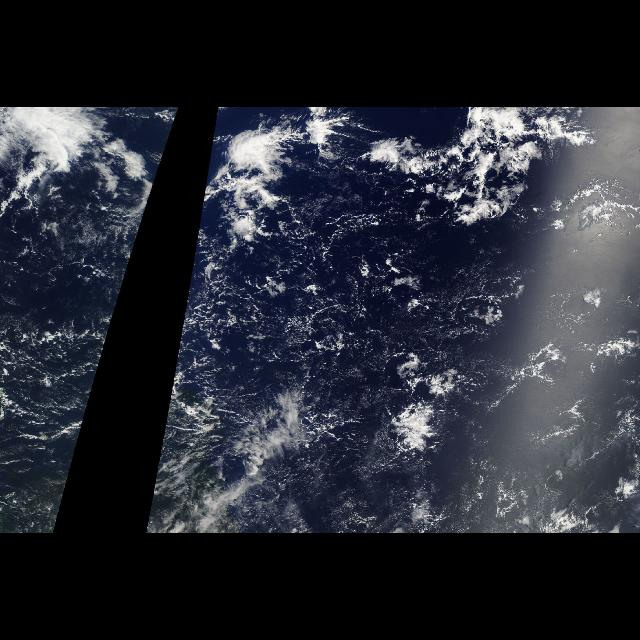Fish: (218, 381, 362, 523)
Gravel: (181, 190, 634, 422), (0, 312, 104, 438)
Sugar: (489, 271, 639, 533), (256, 443, 488, 533), (0, 205, 142, 302)
